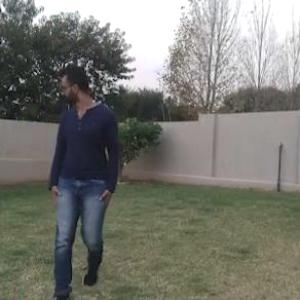follow: (31, 17, 134, 299)
